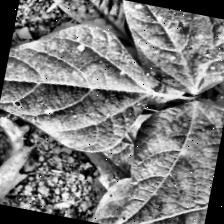Bean Rust: (0, 9, 163, 161), (120, 88, 224, 224), (89, 0, 224, 100)
